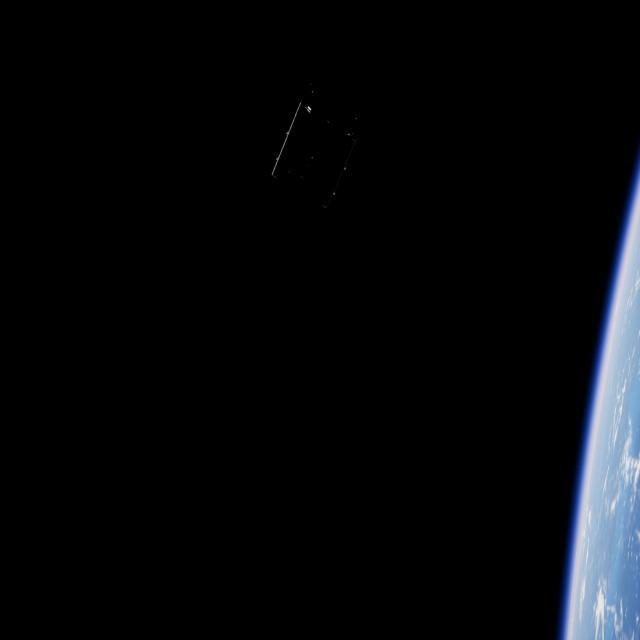satellite: (267, 95, 366, 214)
